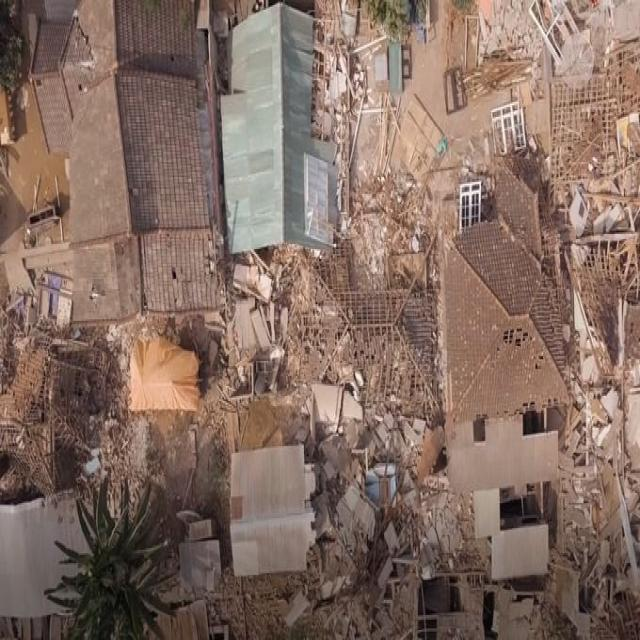collapsed_building: (553, 72, 639, 553), (310, 289, 438, 572), (228, 18, 344, 284), (0, 334, 121, 501)
